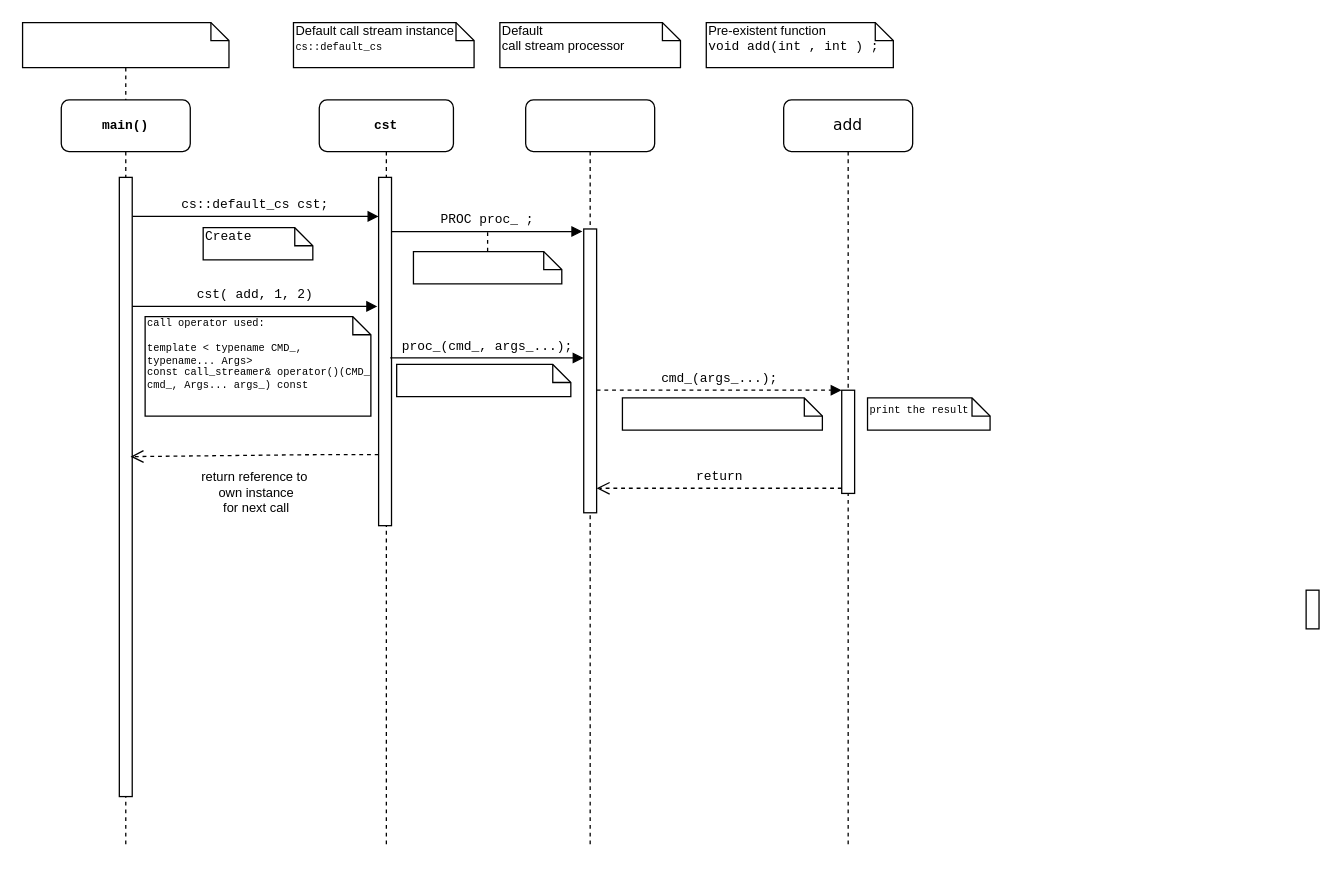
Image size: 1342x871. Some labels were removed from this diagram. Here are the shapes that lost their labels. From the top down, the centre of each, then its label:
At (125,44): "user code namespace cs = dbj::call_stream;".
At (487,267): "Class member create".
At (483,380): "dispatch to processor".
At (721,413): "cmd_ is the first argument".
At (589,473): "proc_".
